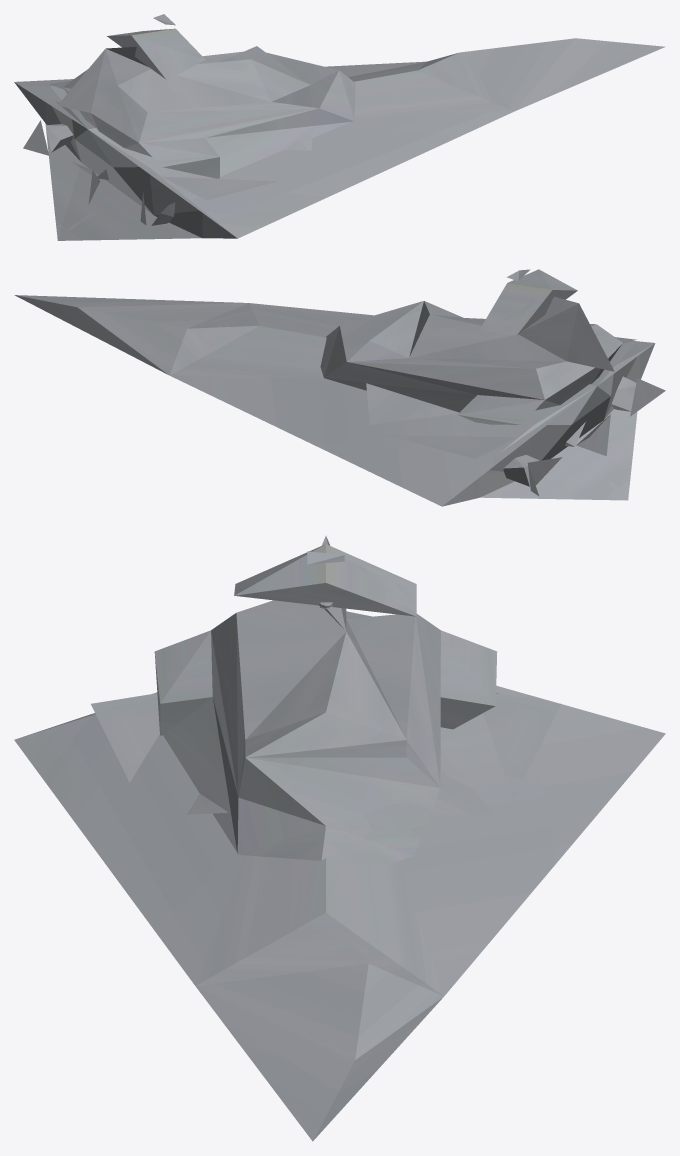
3 renders of one model, top to bottom at view 1: azimuth 30°, elevation 25°; view 2: azimuth 150°, elevation 25°; view 3: azimuth 270°, elevation 25°, orthographic. The views are drawn at different scales.
Visible parts, largest first — view 1: Object_4; view 2: Object_4; view 3: Object_4.
Boxes of the visible parts, bbox=[...] form: Object_4: bbox=[14, 14, 665, 240]; Object_4: bbox=[14, 269, 665, 506]; Object_4: bbox=[14, 536, 665, 1141].
Bounding box in the file's own units: 19.54 × 6.07 × 12.12.
Materials: 1 (1 with a texture image).
